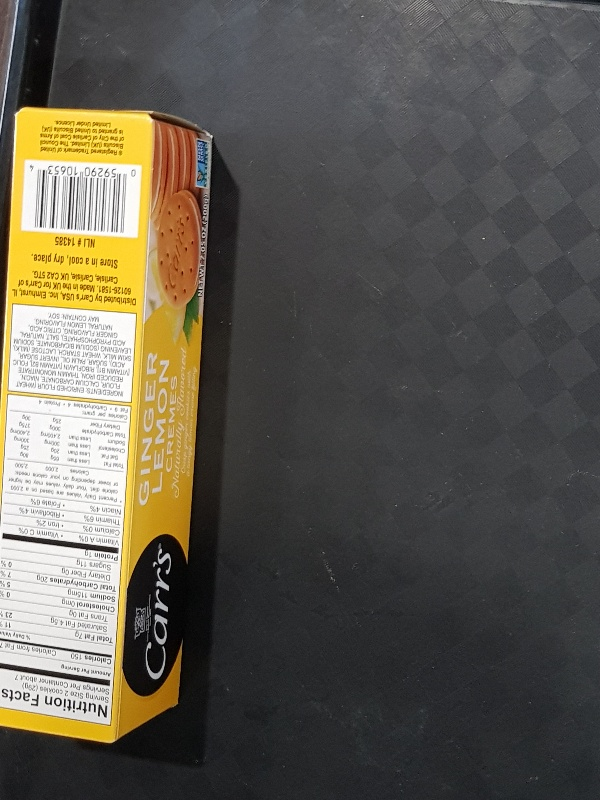Carr's Ginger Lemon Cremes: (3, 107, 214, 744)
